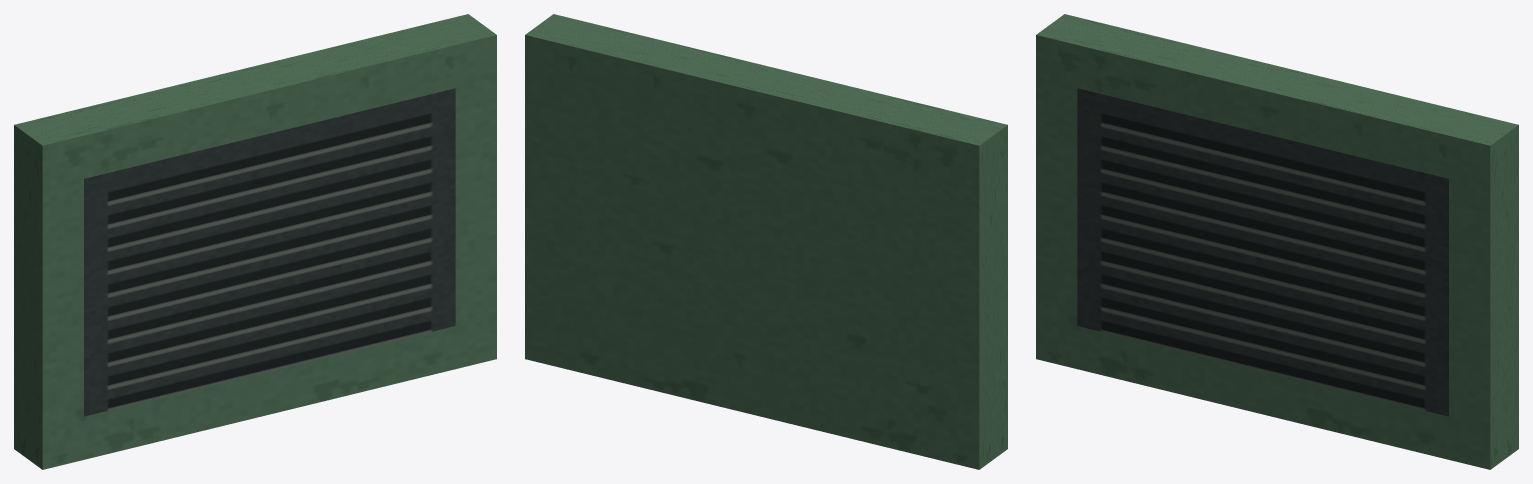
File: VentPanel.fbx
3 views of the same model, side by side, from view 1: azimuth 30°, elevation 25°; view 2: azimuth 150°, elevation 25°; view 3: azimuth 330°, elevation 25° (orthographic).
Parts seen in each view (by area): view 1: VentPanel; view 2: VentPanel; view 3: VentPanel.
Boxes of the visible parts, x1=… form: VentPanel: x1=14, y1=14, x2=496, y2=469; VentPanel: x1=525, y1=14, x2=1007, y2=469; VentPanel: x1=1036, y1=14, x2=1518, y2=469.
Size of the model in its own units: 110 by 75 by 12.
